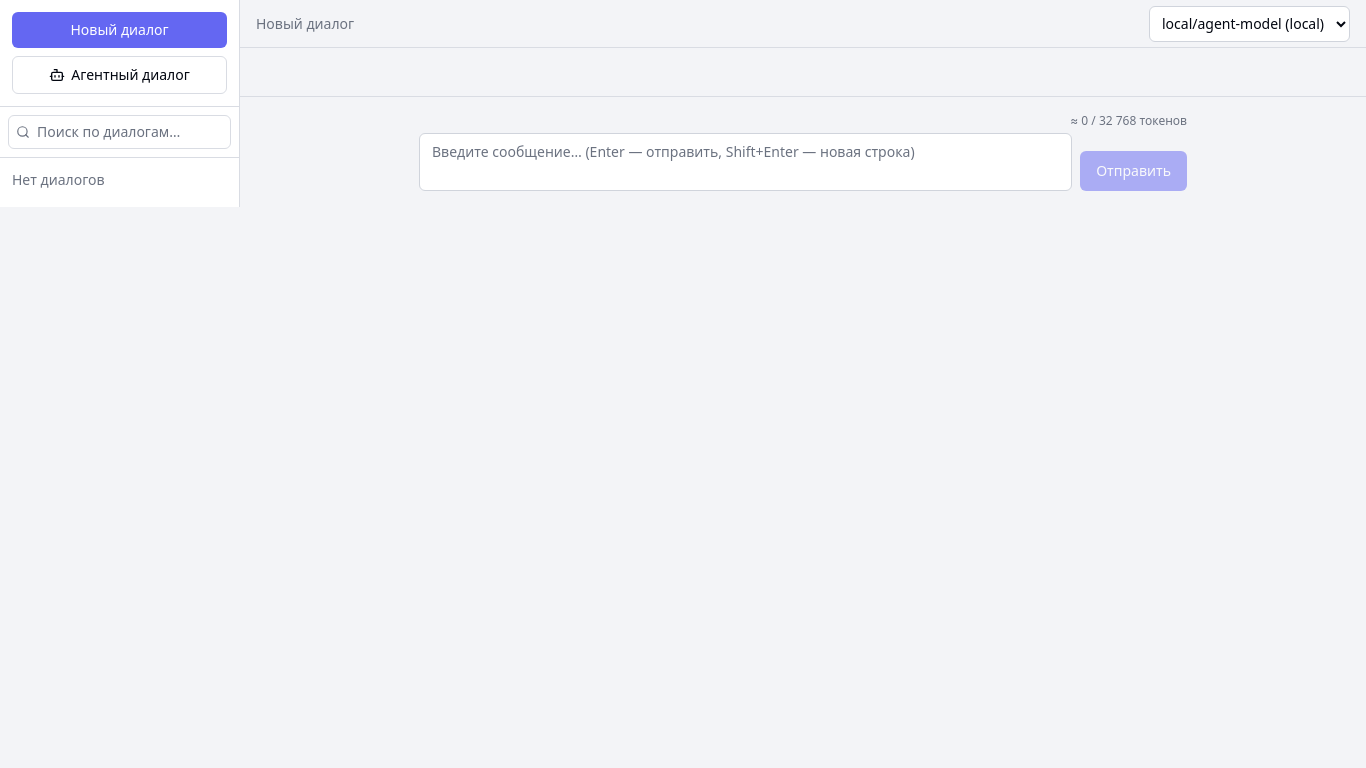
it: Т-502: агентный диалог в ChatPage › деградация: недоступность дополнения показывает причину вместо ввода
This screenshot has width=1366, height=768.
Click the button with test id "new-agent-chat".
click(120, 75)  # box [12,56,227,94]
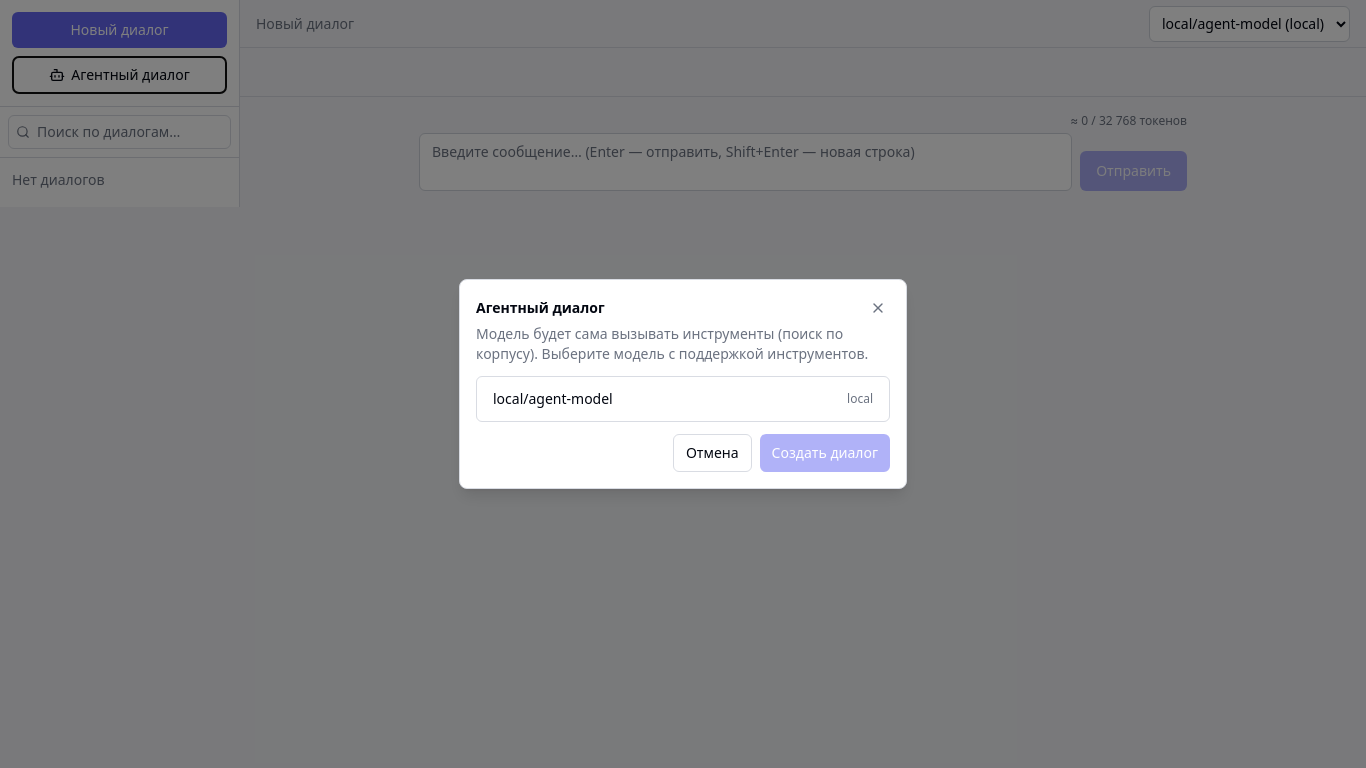
Click the text "local/agent-model".
click(553, 399)  # box [493,389,613,409]
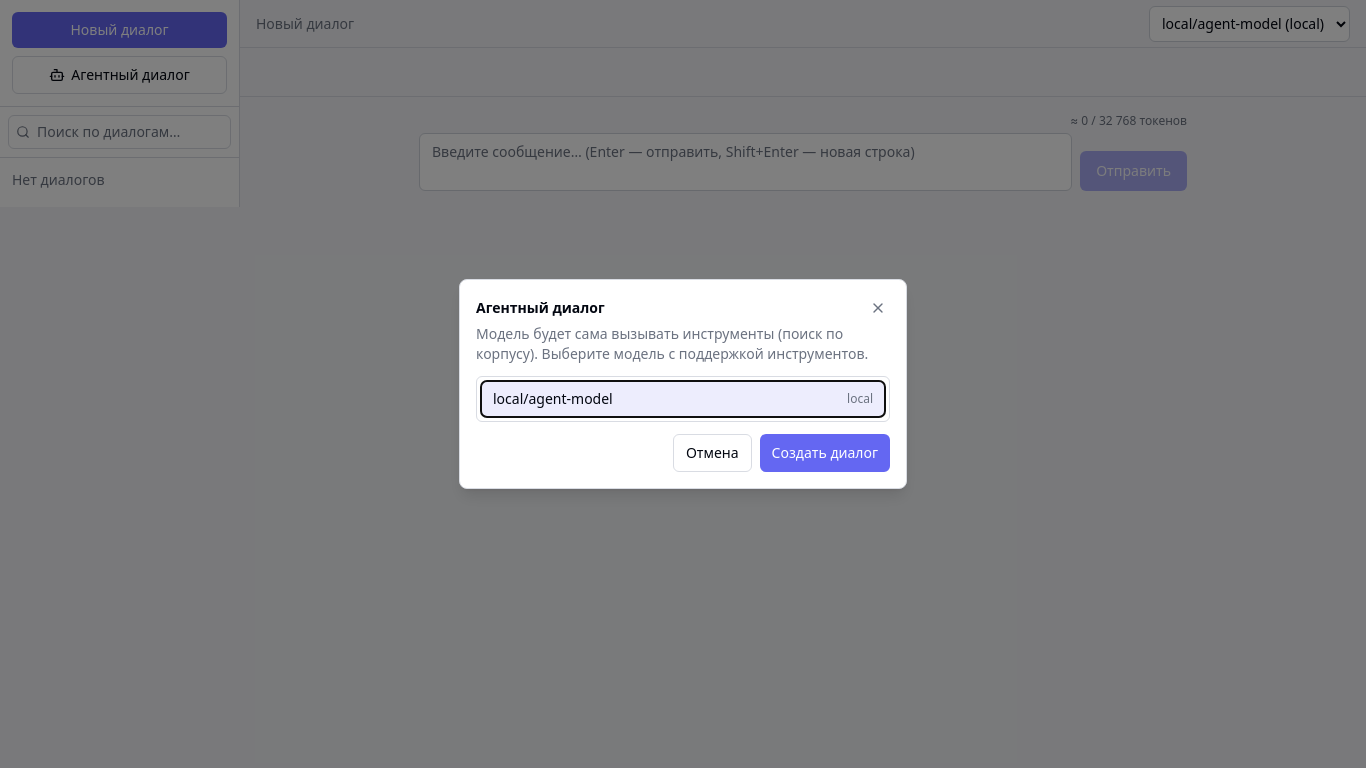
Click the button "Создать диалог".
click(825, 453)  # box [760,434,890,472]
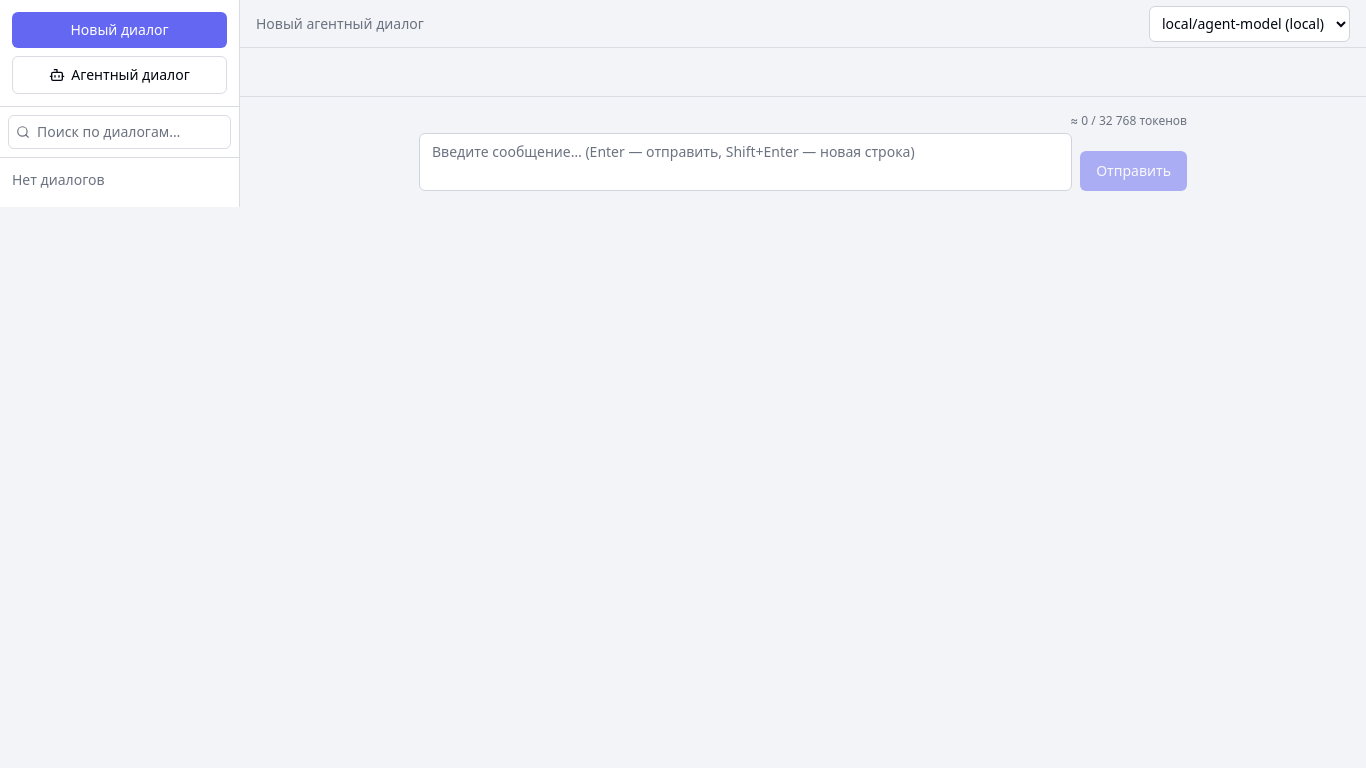
Expected: the text "Новый агентный диалог" is shown, [256,14,424,32]
Type "Вопрос" into the text box with placeholder "Введите сообщение".
click(746, 162); type("Вопрос")  # box [419,133,1072,191]
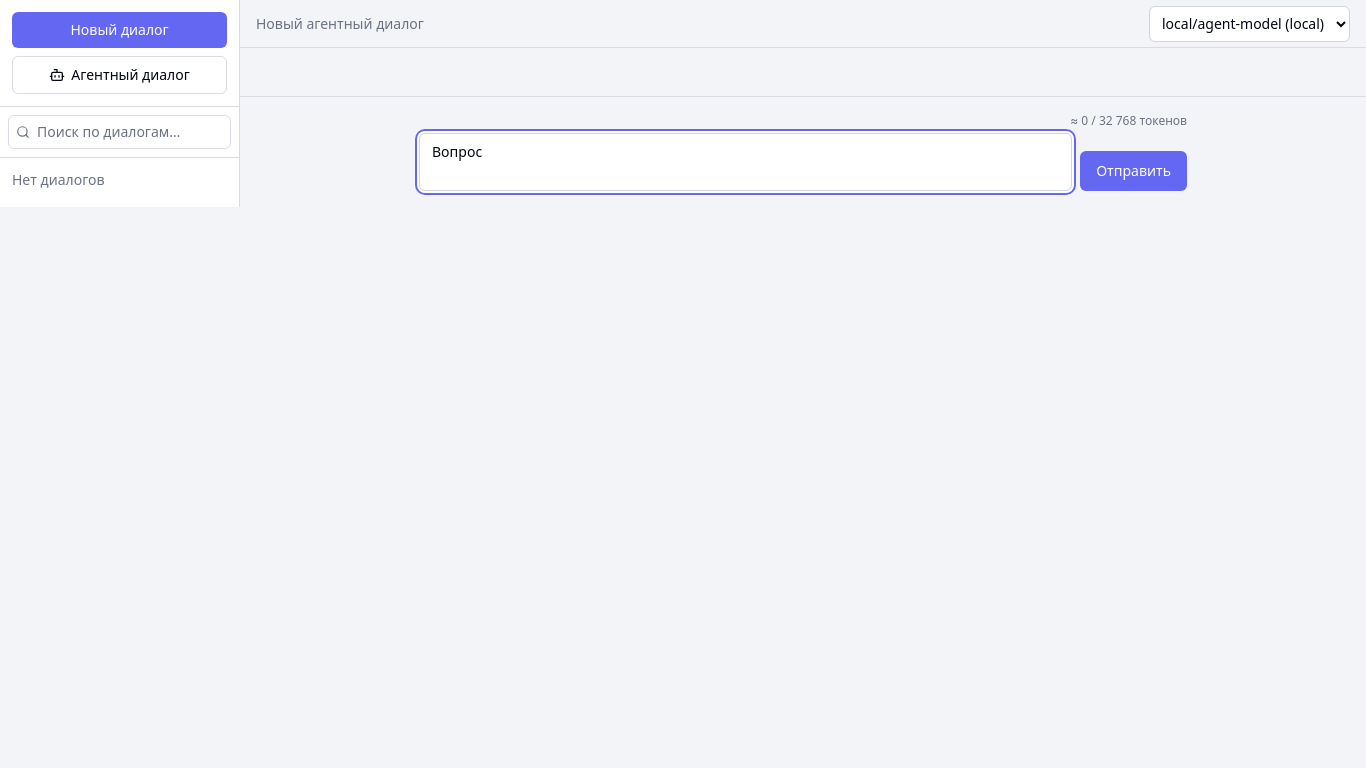
Click the button "Отправить".
click(1134, 171)  # box [1080,151,1187,191]
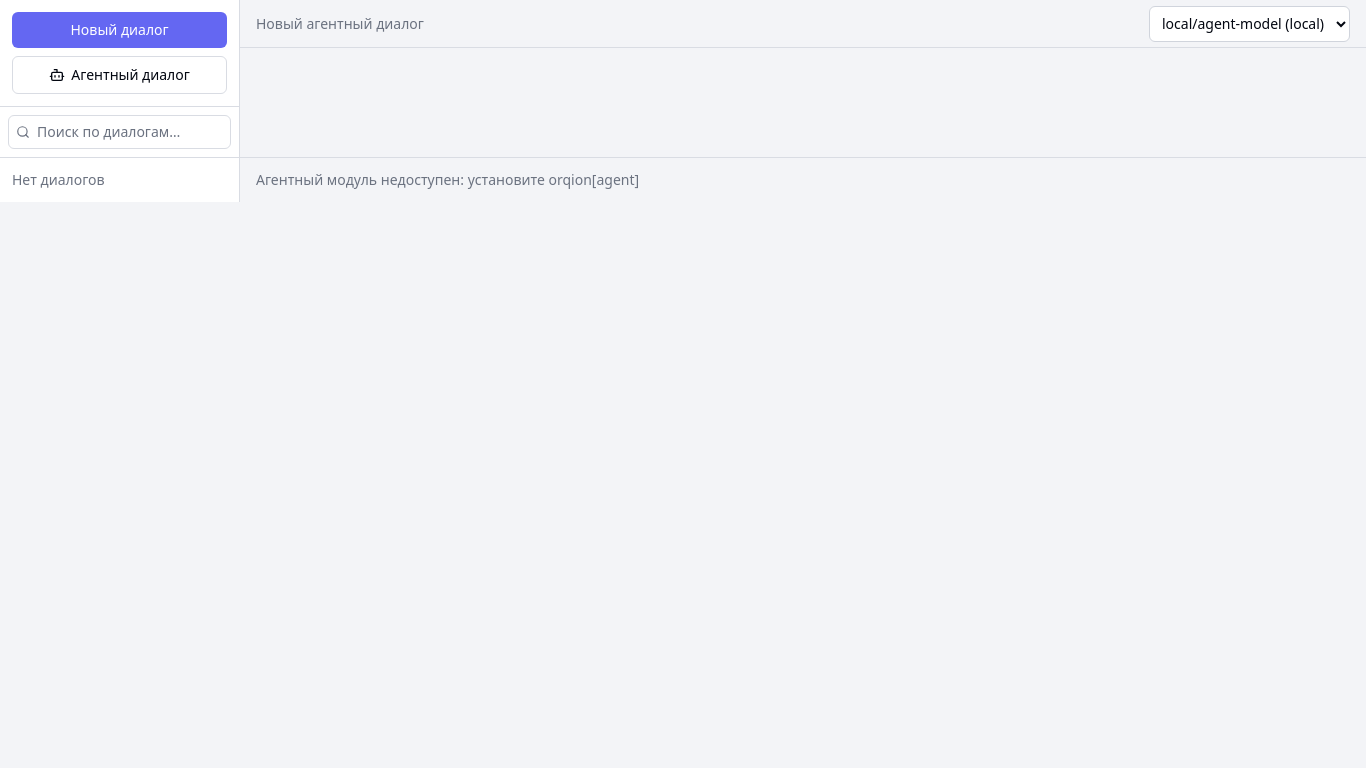
Expected: the text "Агентный модуль недоступен: установите orqion[agent]" is shown, [240,157,1365,202]
